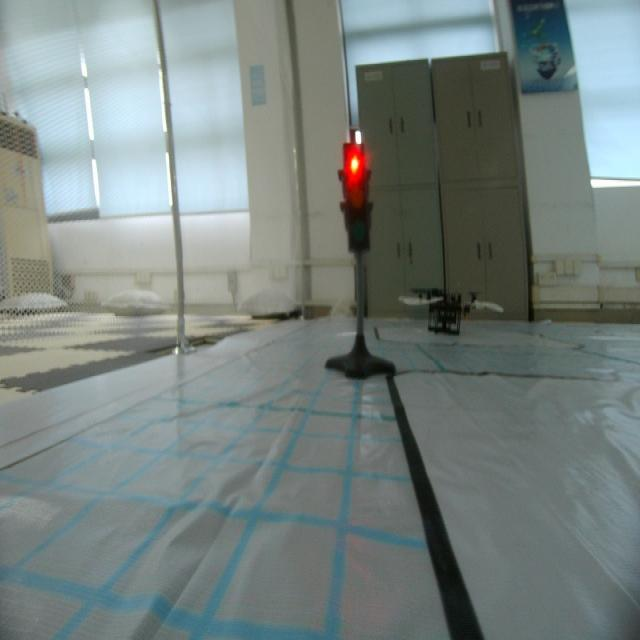red: (336, 140, 376, 261)
